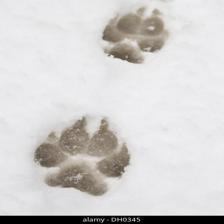dog: (33, 111, 130, 199), (99, 5, 173, 67)
